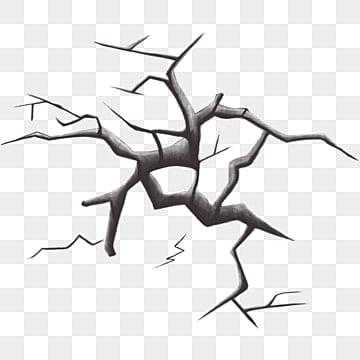Crack: (0, 27, 360, 327)
